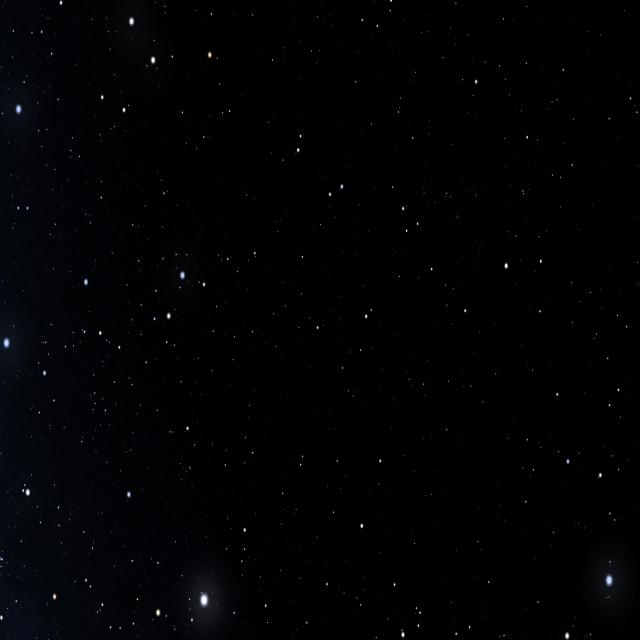Caelum: (292, 240, 352, 384)
